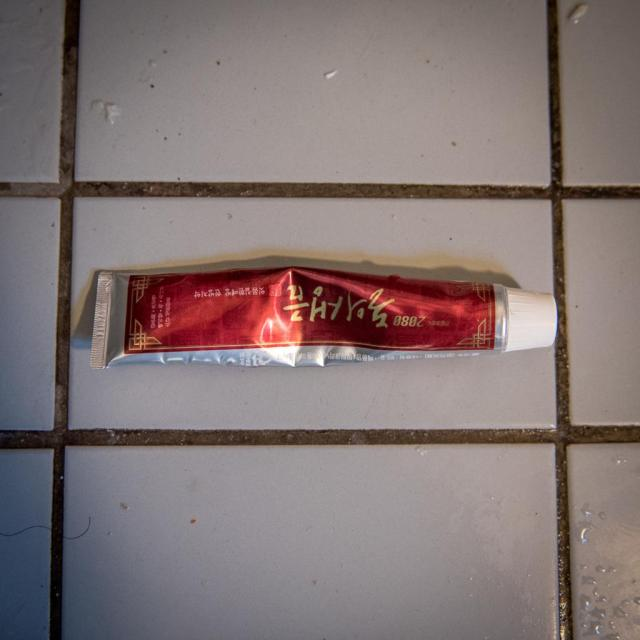Toothpaste: (81, 255, 571, 369)
